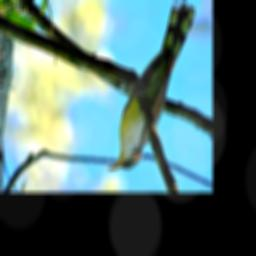Cuckoo: (107, 0, 195, 170)
